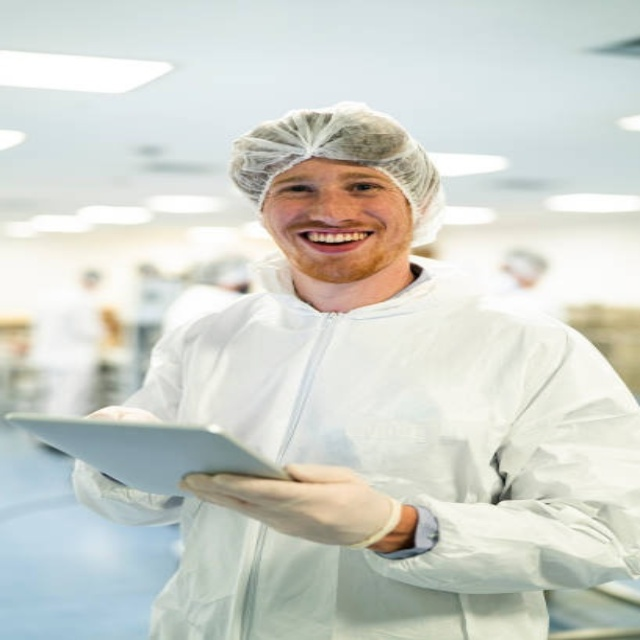Guantes: (180, 459, 402, 551)
Sin_gafas: (274, 170, 383, 204)
Sin_mascara: (280, 222, 390, 264)
